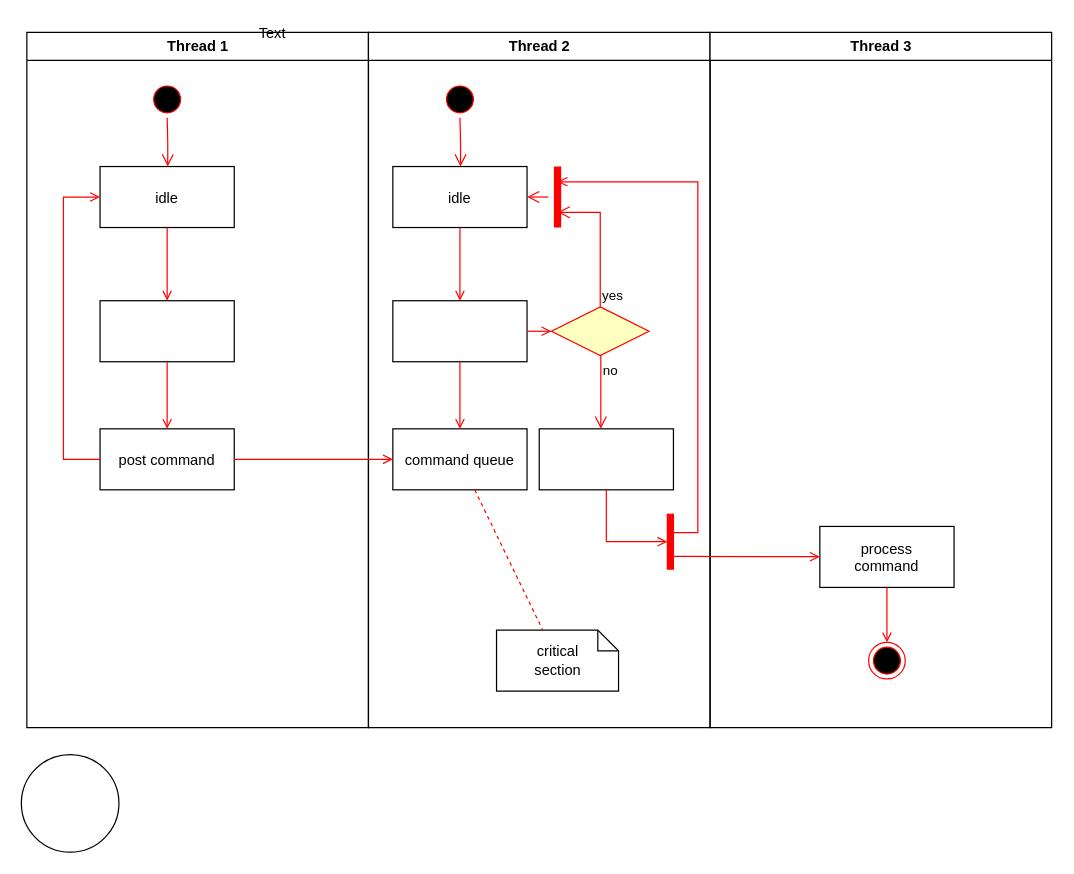
Some shapes in this 1074 by 874 pixel diagram are drawn without their labels. The shapes that lost their labels are listed below. From the top down, each one's centre as x and y in pixels, then its label:
At point 166,331: "user action".
At point 459,331: "check for new commands".
At point 599,331: "queue empty".
At point 605,459: "dispatch command worker thread".
